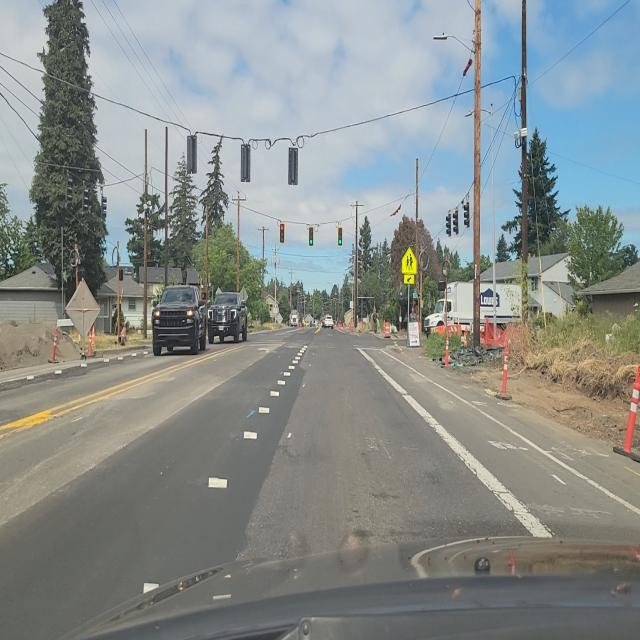car: (152, 284, 208, 361), (209, 293, 249, 345), (322, 314, 334, 330), (290, 314, 298, 328)
crosswalk-sign: (402, 247, 416, 282)
delineator: (620, 366, 639, 454), (495, 339, 511, 402), (51, 327, 60, 362), (444, 326, 450, 367), (88, 326, 94, 357), (461, 326, 468, 348)
